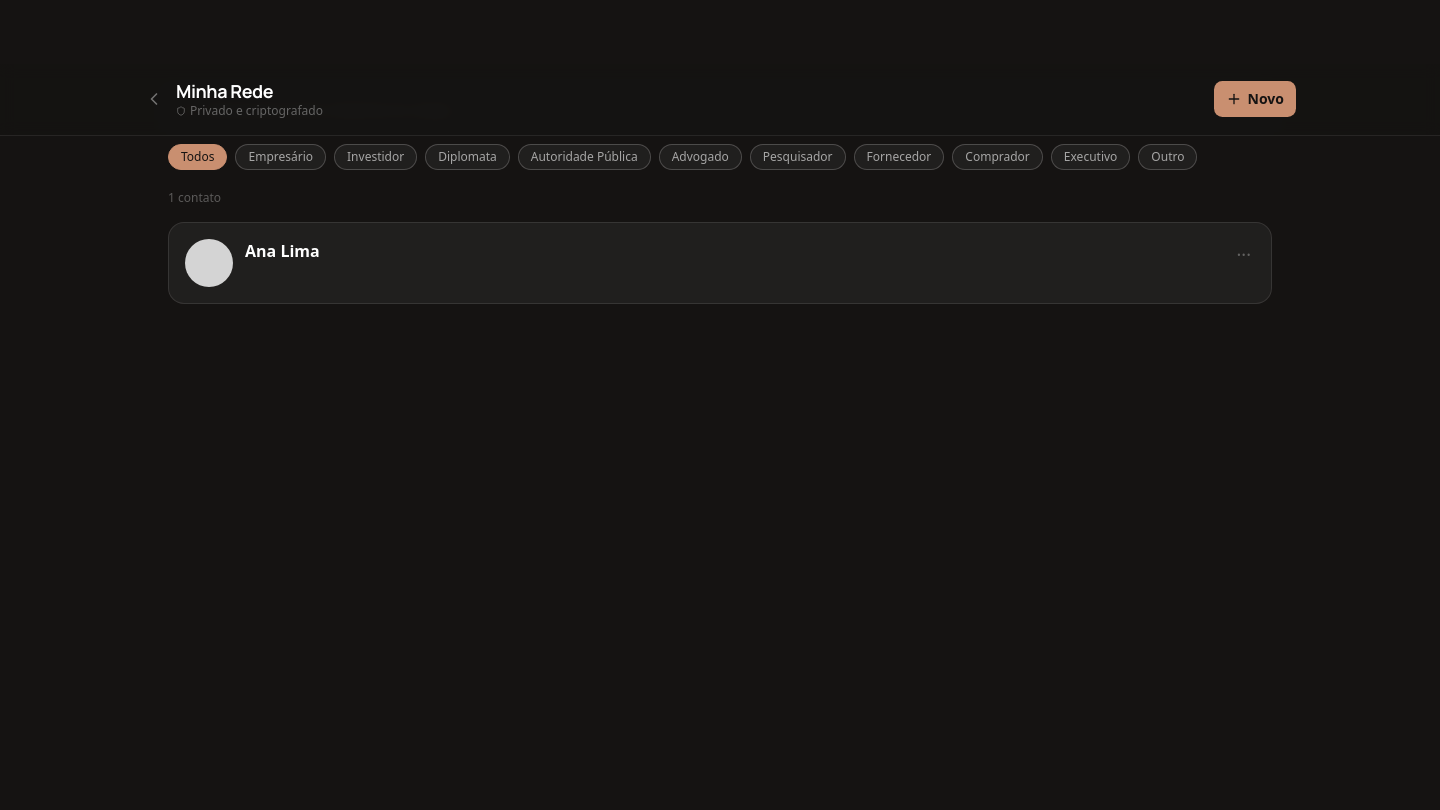
Test case: Minha Rede — detalhe do contato: consulta em erro não é 'nada ainda' › sem erro e sem contextos, a seção não aparece — e o histórico vazio continua dizendo que está vazio
The image size is (1440, 810).
Click the text "Ana Lima" at [282, 250], box [245,238,320,262]
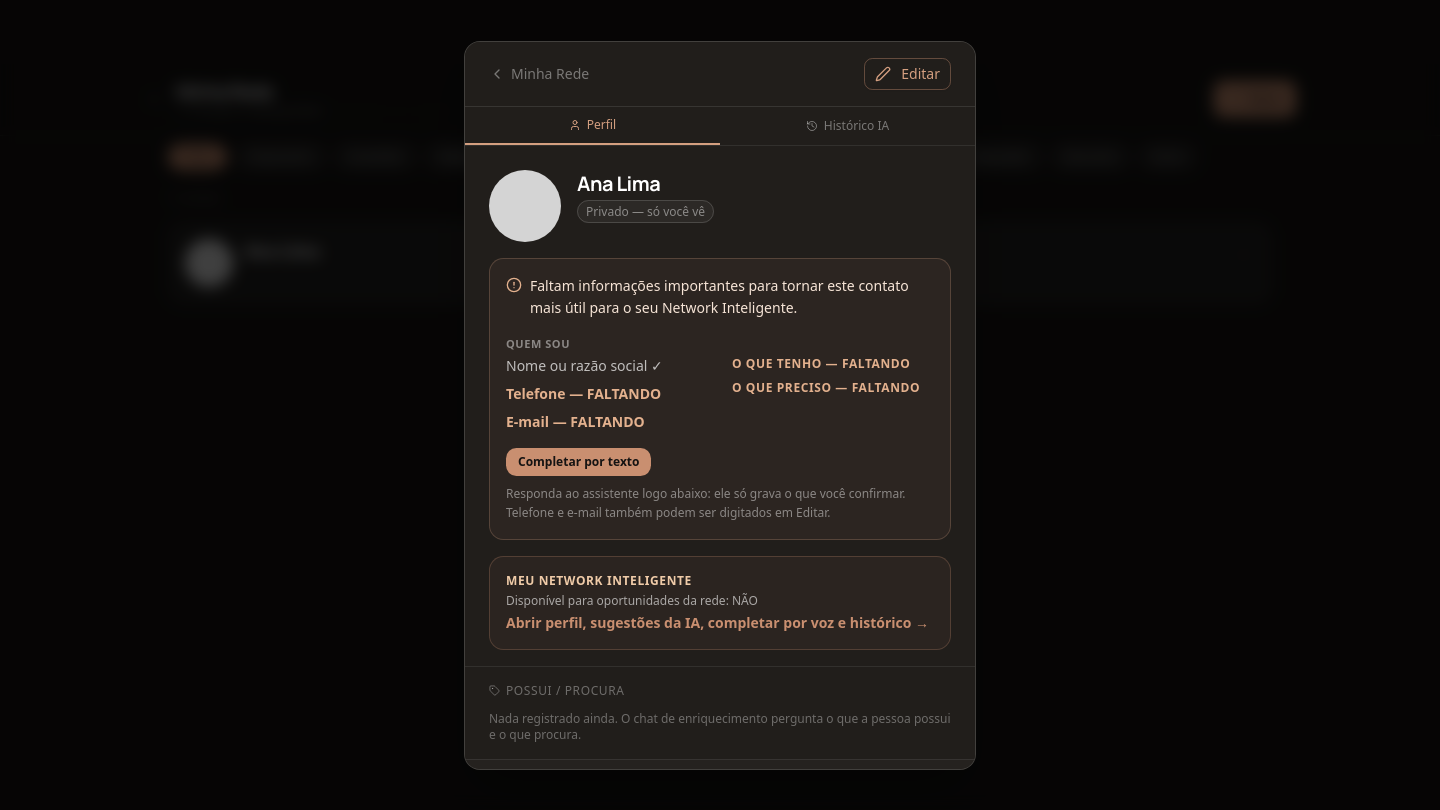
Click the button "Histórico IA" at [848, 126], box [720,106,975,144]
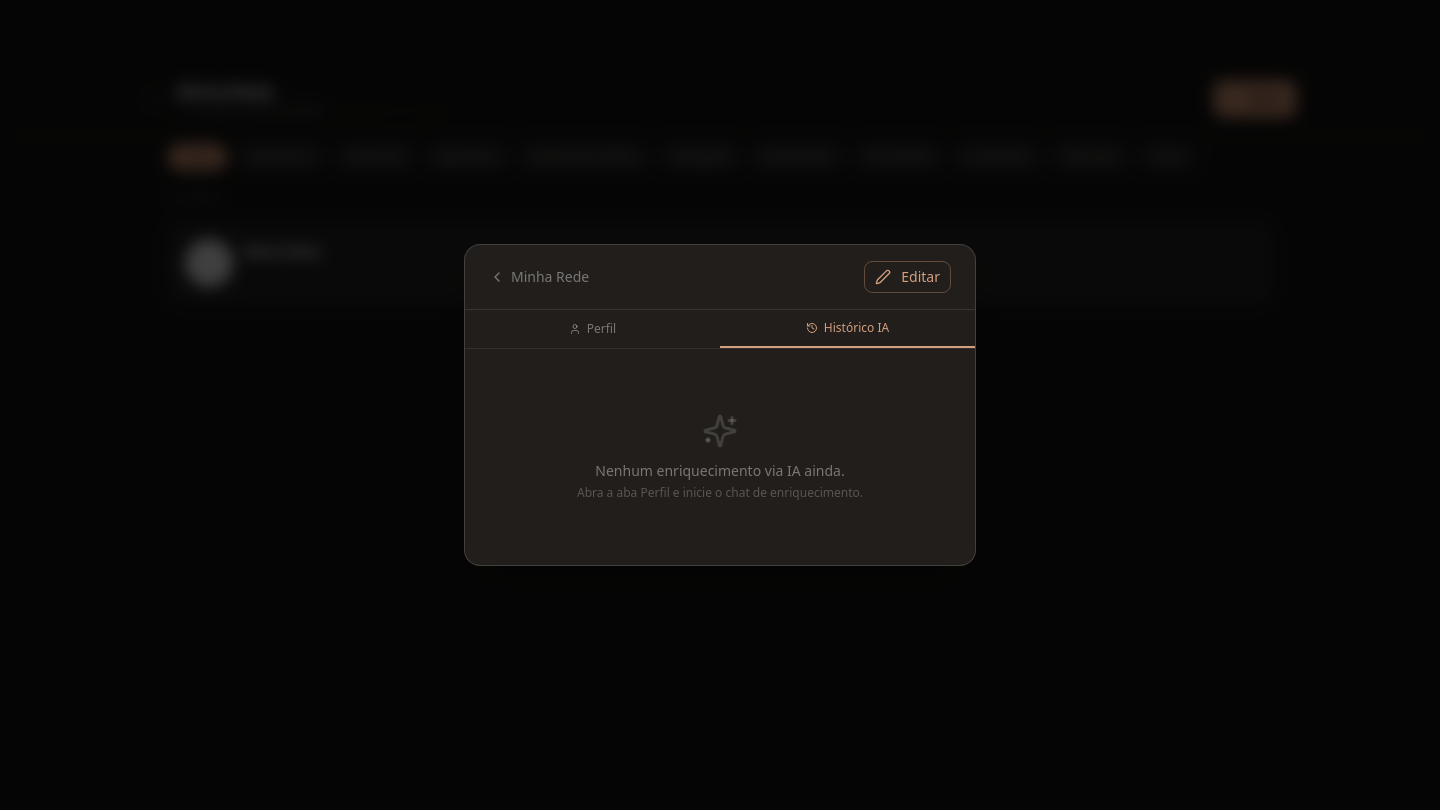
Check: the text "Nenhum enriquecimento via IA ainda." is shown, box [595,461,845,481]
